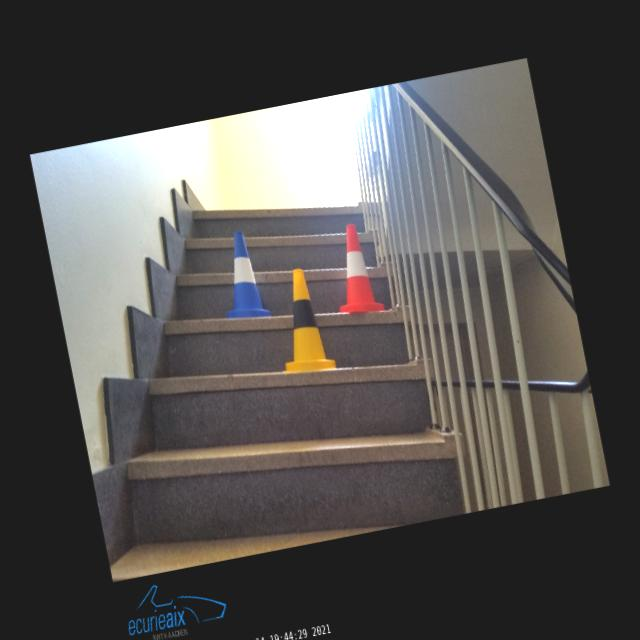blue_cone: (212, 227, 272, 324)
orange_cone: (324, 222, 384, 318)
yellow_cone: (264, 266, 336, 378)
